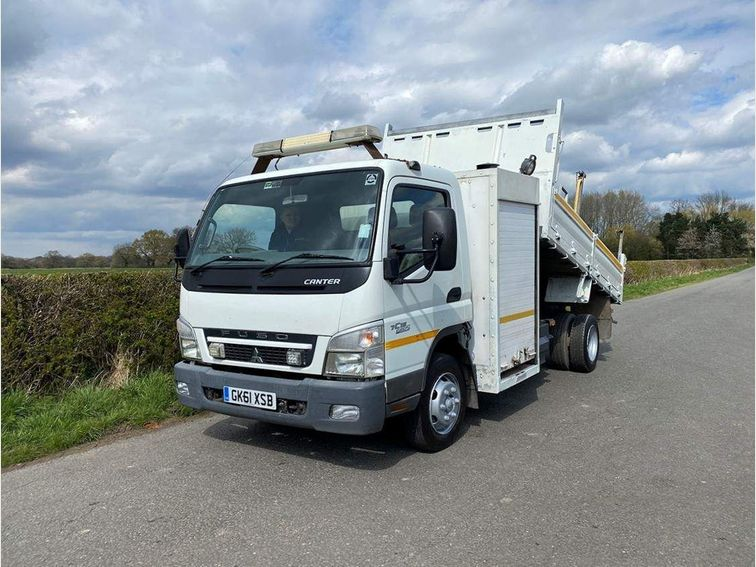Semi: (173, 97, 625, 452)
